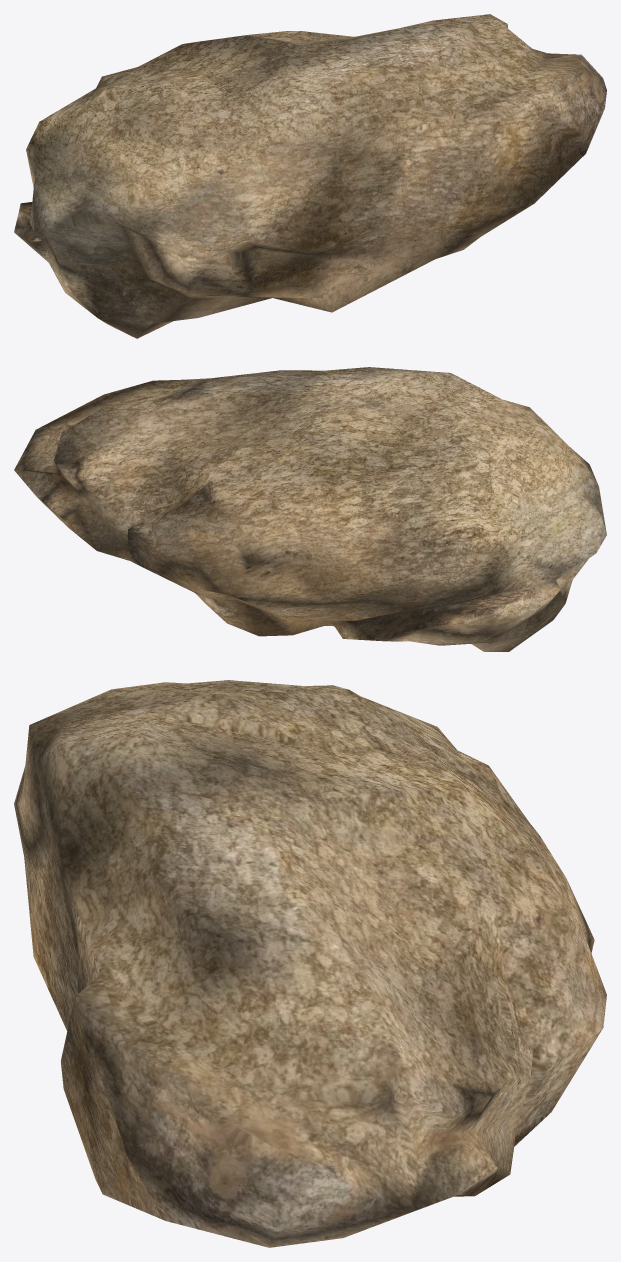
File: boulder3.glb
The picture shows the model from 3 angles, top to bottom: view 1: azimuth 30°, elevation 25°; view 2: azimuth 150°, elevation 25°; view 3: azimuth 270°, elevation 25°; orthographic projection. The views are drawn at different scales.
Visible parts, largest first — view 1: lod1; view 2: lod1; view 3: lod1.
Boxes of the visible parts, <box> form: lod1: <box>14,14,606,338</box>; lod1: <box>14,367,606,651</box>; lod1: <box>14,680,606,1247</box>.
Size of the model in its own units: 3.54 by 1.37 by 1.93.
Materials: 1 (1 with a texture image).
